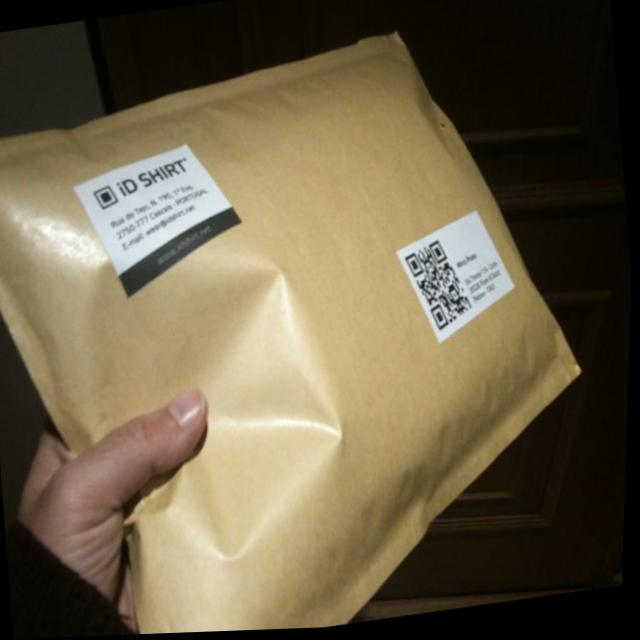qrcode: (404, 239, 478, 338)
